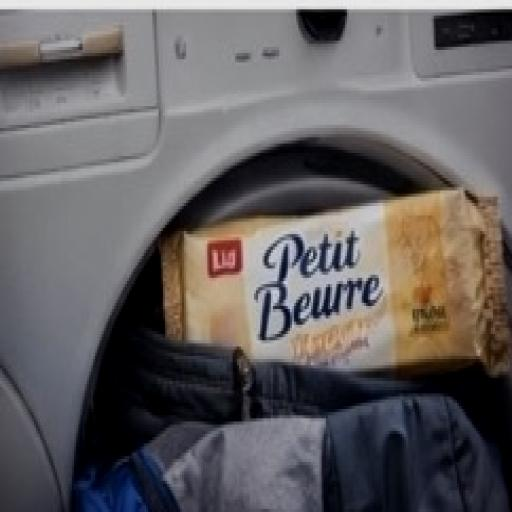petit-beurre: (116, 131, 512, 431)
